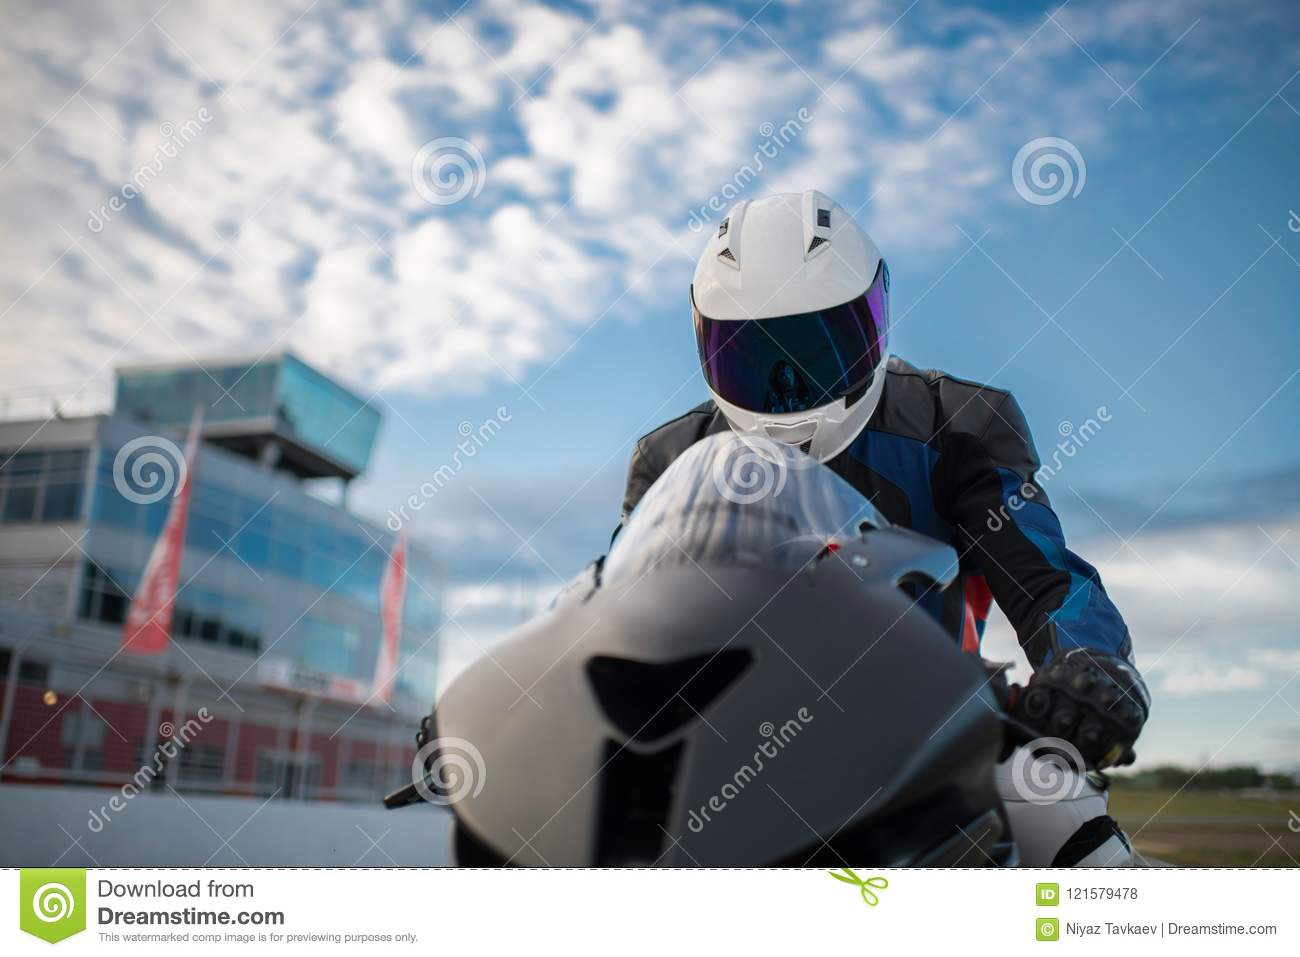helmet: (673, 192, 904, 473)
